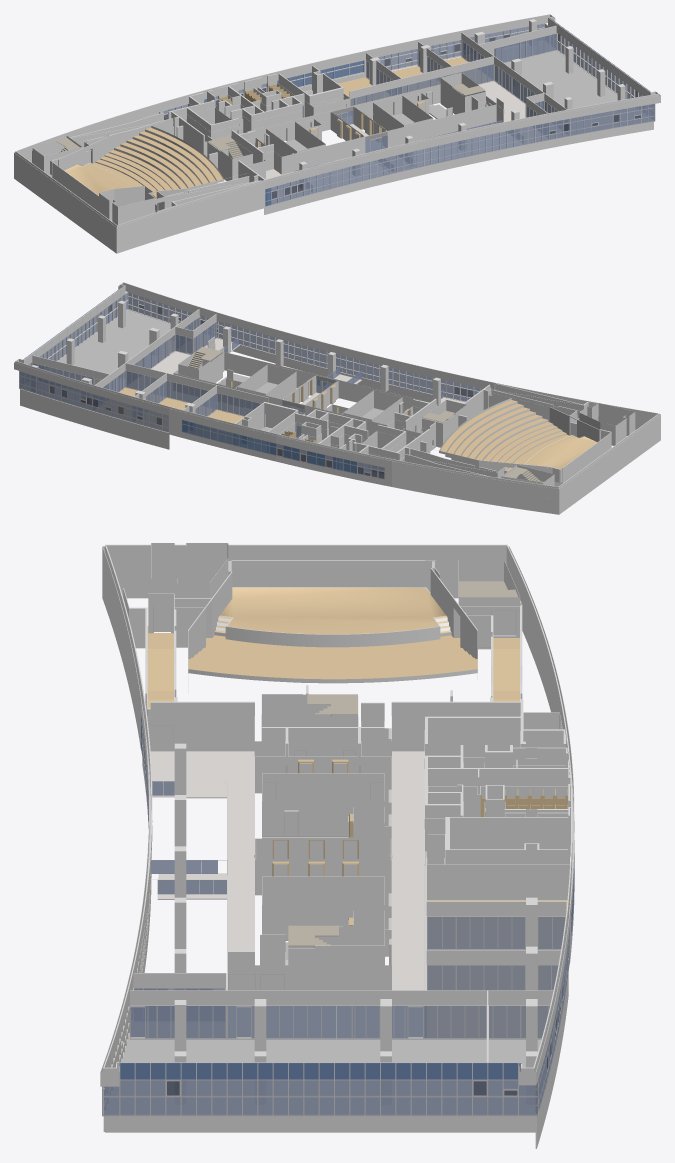
3 renders of one model, top to bottom at view 1: azimuth 30°, elevation 25°; view 2: azimuth 150°, elevation 25°; view 3: azimuth 270°, elevation 25°, orthographic. The views are drawn at different scales.
Visible parts, largest first — view 1: A8_4F_Wall, A8_4F_WindowGlass, A8_4F_WindowFrame, A8_4F_Floor, A8_4F_Stage, A8_4F_Pillar, A8_4F_Door, A8_4F_Stair, A8_4F_Elev., A8_4F_AutoDoor, A8_4F_Partition; view 2: A8_4F_Wall, A8_4F_WindowFrame, A8_4F_WindowGlass, A8_4F_Floor, A8_4F_Stage, A8_4F_Pillar, A8_4F_Door, A8_4F_Stair, A8_4F_Elev., A8_4F_AutoDoor; view 3: A8_4F_Wall, A8_4F_Floor, A8_4F_WindowFrame, A8_4F_Stage, A8_4F_WindowGlass, A8_4F_Pillar, A8_4F_Door, A8_4F_Stair, A8_4F_Elev., A8_4F_InnerFence, A8_4F_Partition.
Part boxes in pixels (left/top/right/bottom): A8_4F_Wall: left=14, top=14, right=660, bottom=253; A8_4F_WindowGlass: left=163, top=17, right=654, bottom=206; A8_4F_WindowFrame: left=164, top=17, right=655, bottom=206; A8_4F_Floor: left=111, top=42, right=651, bottom=220; A8_4F_Stage: left=52, top=126, right=223, bottom=211; A8_4F_Pillar: left=299, top=19, right=625, bottom=188; A8_4F_Door: left=51, top=49, right=567, bottom=212; A8_4F_Stair: left=43, top=83, right=485, bottom=158; A8_4F_Elev.: left=258, top=101, right=425, bottom=147; A8_4F_AutoDoor: left=331, top=106, right=387, bottom=153; A8_4F_Partition: left=219, top=84, right=292, bottom=108; A8_4F_Wall: left=14, top=282, right=660, bottom=514; A8_4F_WindowFrame: left=19, top=286, right=482, bottom=479; A8_4F_WindowGlass: left=19, top=286, right=483, bottom=473; A8_4F_Floor: left=23, top=310, right=613, bottom=477; A8_4F_Stage: left=439, top=398, right=611, bottom=486; A8_4F_Pillar: left=32, top=300, right=440, bottom=430; A8_4F_Door: left=94, top=317, right=611, bottom=511; A8_4F_Stair: left=188, top=346, right=543, bottom=482; A8_4F_Elev.: left=230, top=378, right=409, bottom=415; A8_4F_AutoDoor: left=282, top=375, right=337, bottom=412; A8_4F_Wall: left=100, top=543, right=574, bottom=1148; A8_4F_Floor: left=106, top=626, right=567, bottom=1113; A8_4F_WindowFrame: left=102, top=716, right=574, bottom=1116; A8_4F_Stage: left=188, top=587, right=477, bottom=683; A8_4F_WindowGlass: left=103, top=715, right=574, bottom=1115; A8_4F_Pillar: left=174, top=743, right=537, bottom=1104; A8_4F_Door: left=130, top=561, right=516, bottom=1038; A8_4F_Stair: left=288, top=581, right=518, bottom=947; A8_4F_Elev.: left=272, top=759, right=359, bottom=925; A8_4F_InnerFence: left=150, top=781, right=227, bottom=972; A8_4F_Partition: left=480, top=789, right=567, bottom=816.
Size of the model in its own units: 89.2 by 7.87 by 34.02.
